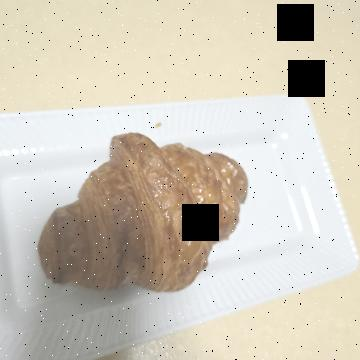croissant: (126, 104, 299, 332)
